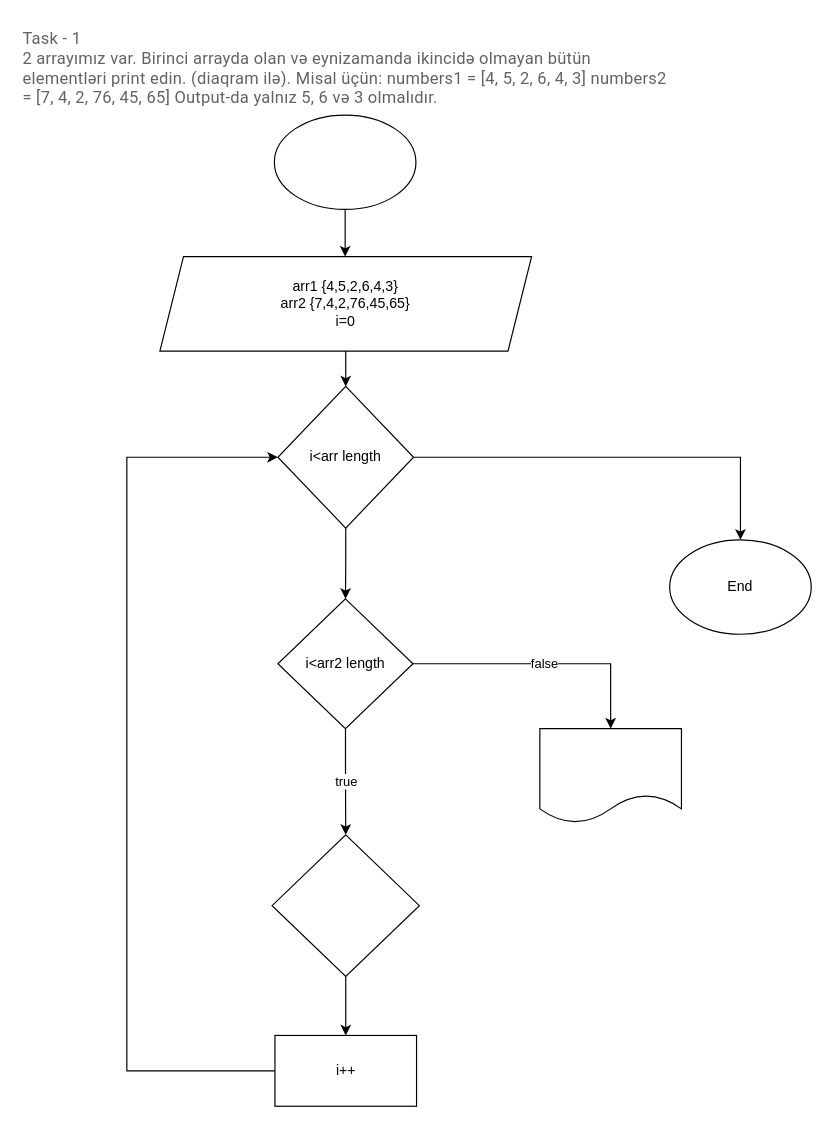
Image size: 832x1127. Some labels were removed from this diagram. The centre of each missing label's shape, as x and y in pixels:
"arr {i}" belongs at (x=610, y=775).
"arr1=arr2" belongs at (x=345, y=905).
"Start" belongs at (x=344, y=161).
